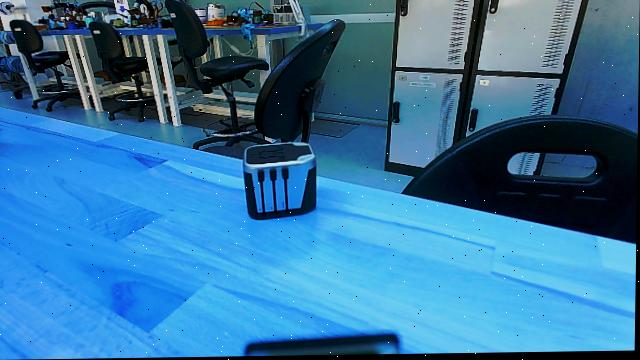adapter: (237, 140, 325, 222)
